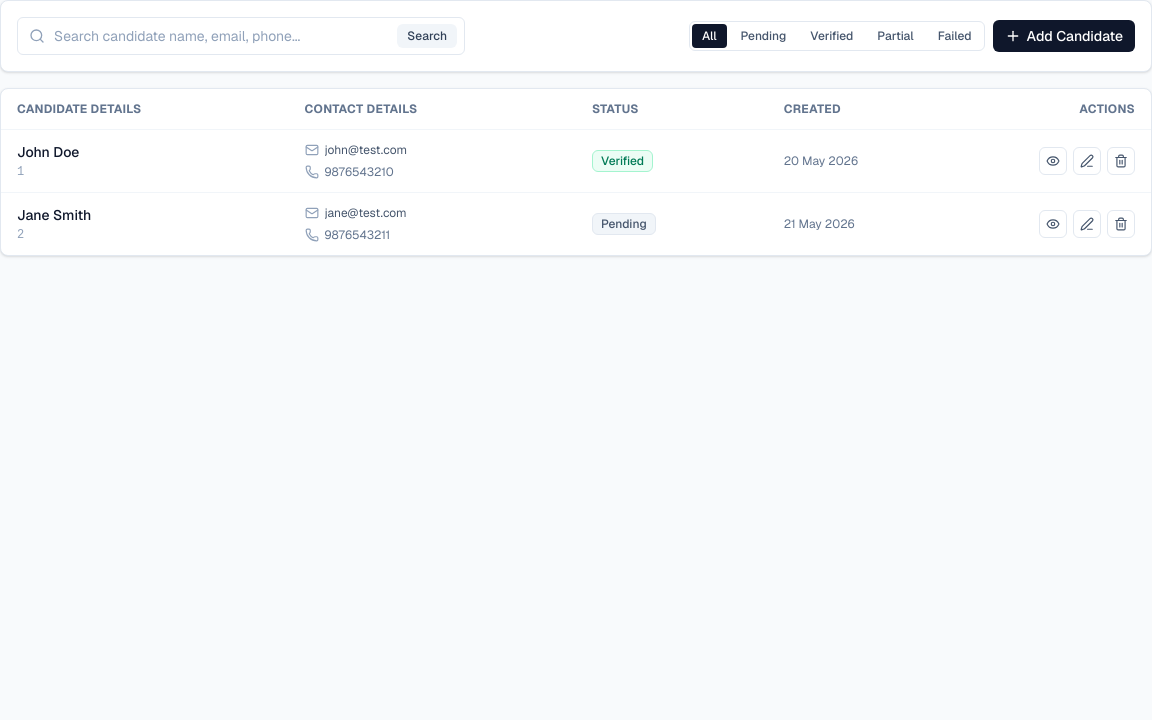
Test: CandidateList Component › Add Candidate Modal › should validate phone number format
The width and height of the screenshot is (1152, 720).
Click the button "Add Candidate" at (1064, 36), box left=993, top=20, right=1135, bottom=52
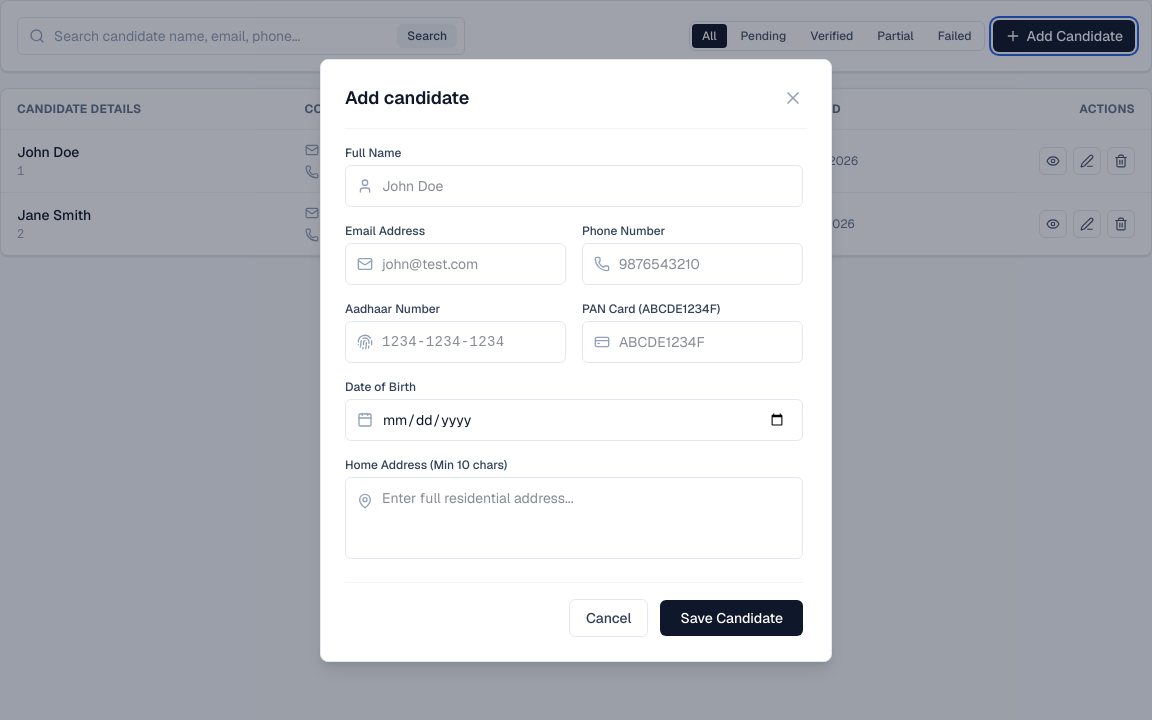
Type "123" into the field with placeholder "9876543210" at (692, 264), box left=582, top=242, right=803, bottom=284
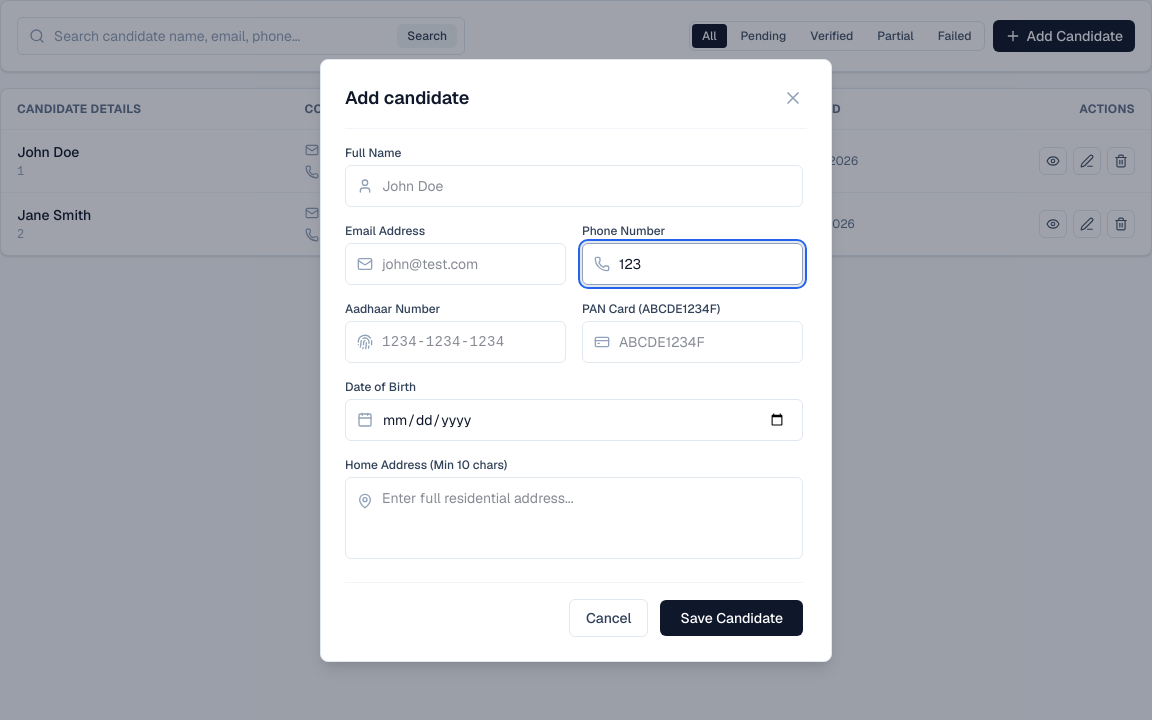
Click the button "Save Candidate" at (732, 618), box left=660, top=600, right=803, bottom=636
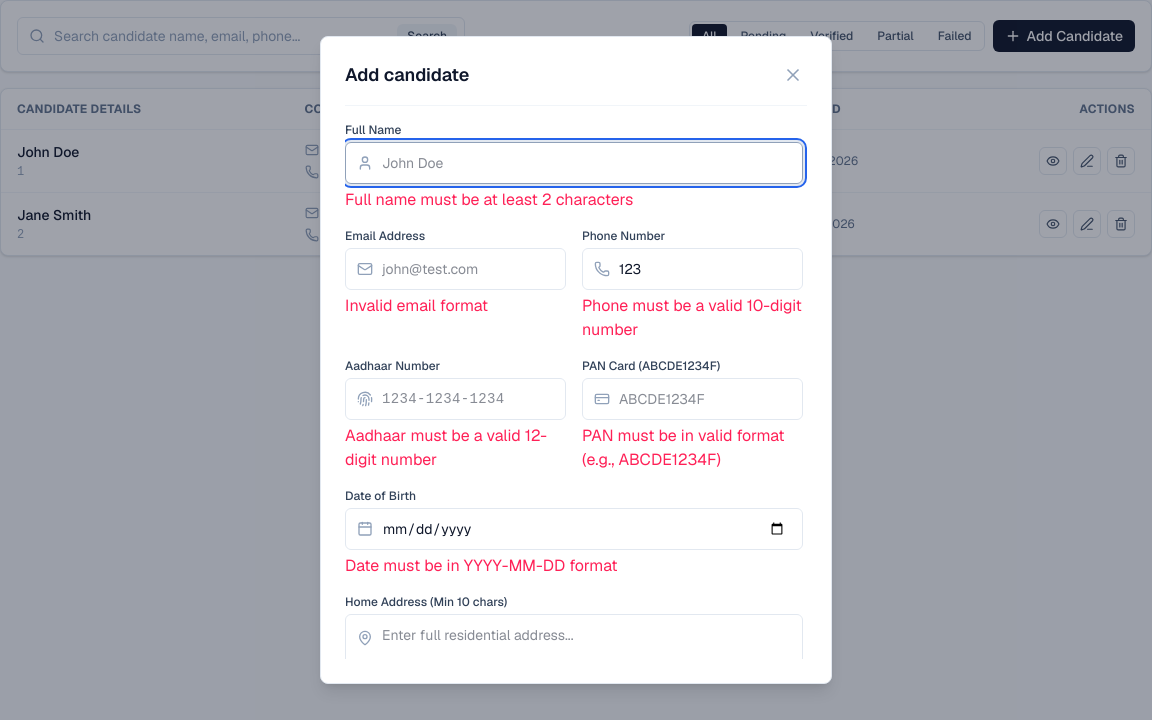
Expected: the text "Phone must be a valid 10-digit number" is shown, left=582, top=294, right=803, bottom=342
